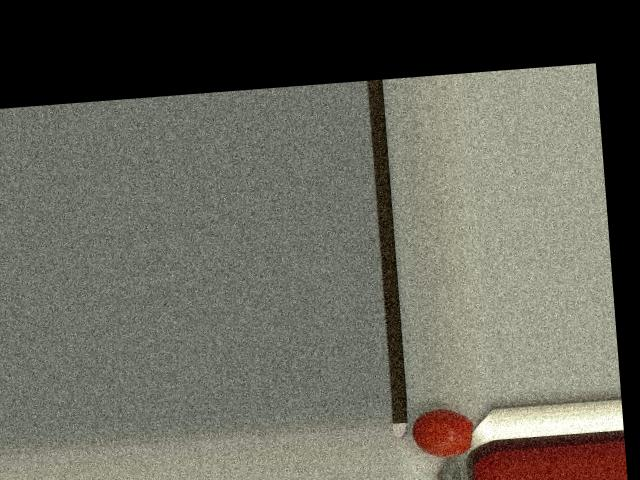tomato: (411, 406, 475, 459)
